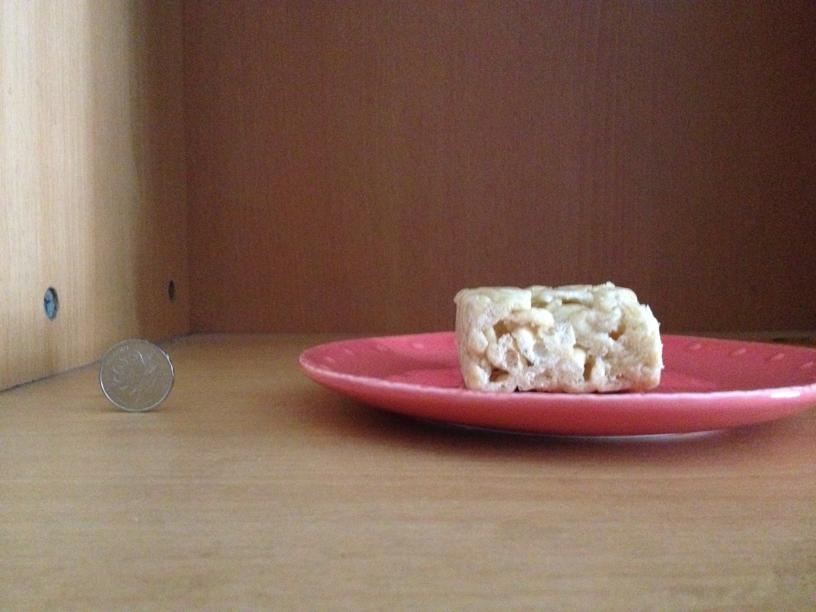coin: (100, 339, 173, 413)
sachima: (442, 277, 662, 393)
